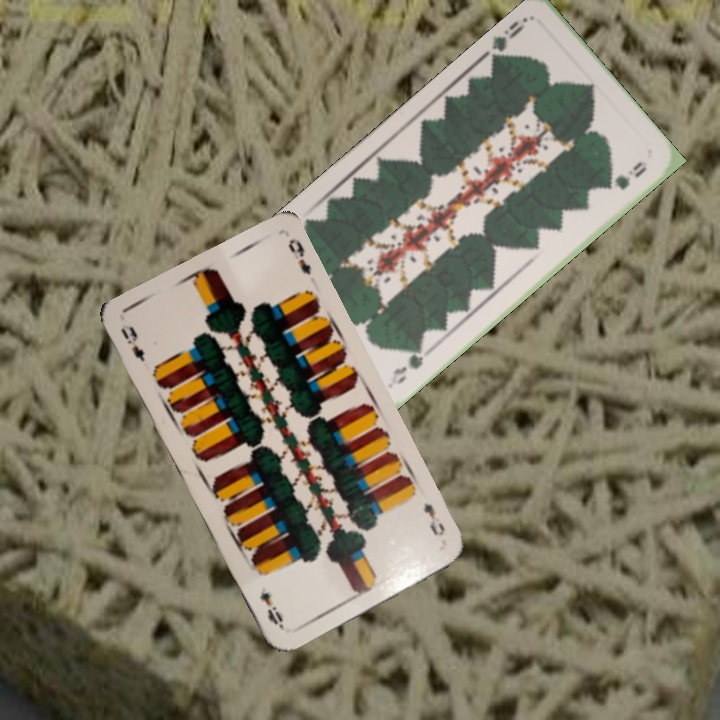E9: (116, 322, 148, 365), (419, 498, 448, 539)
G9: (487, 13, 531, 63), (386, 341, 428, 390)
